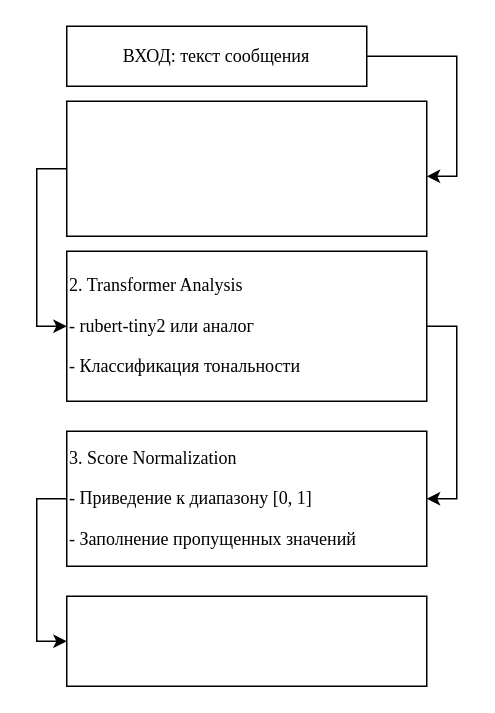
Some shapes in this 495 by 713 pixel diagram are drawn without their labels. Here are the shapes that lost their labels. From the top down, the centre of each, then its label:
(246,168): 1. Keyword Scoring - Поиск маркеров выгорания - Поиск позитивных/негативных слов
(246,640): ВЫХОД: нормализованные оценки
